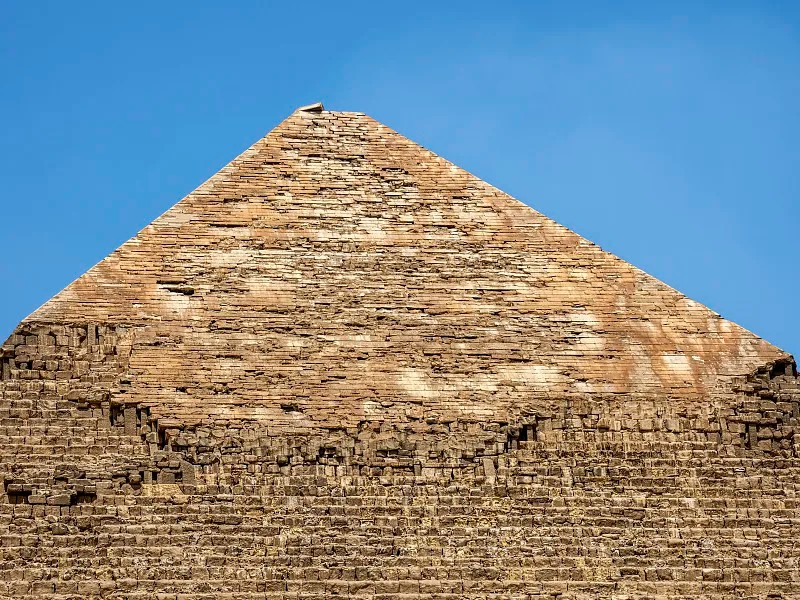Pyramid: (1, 105, 800, 422)
